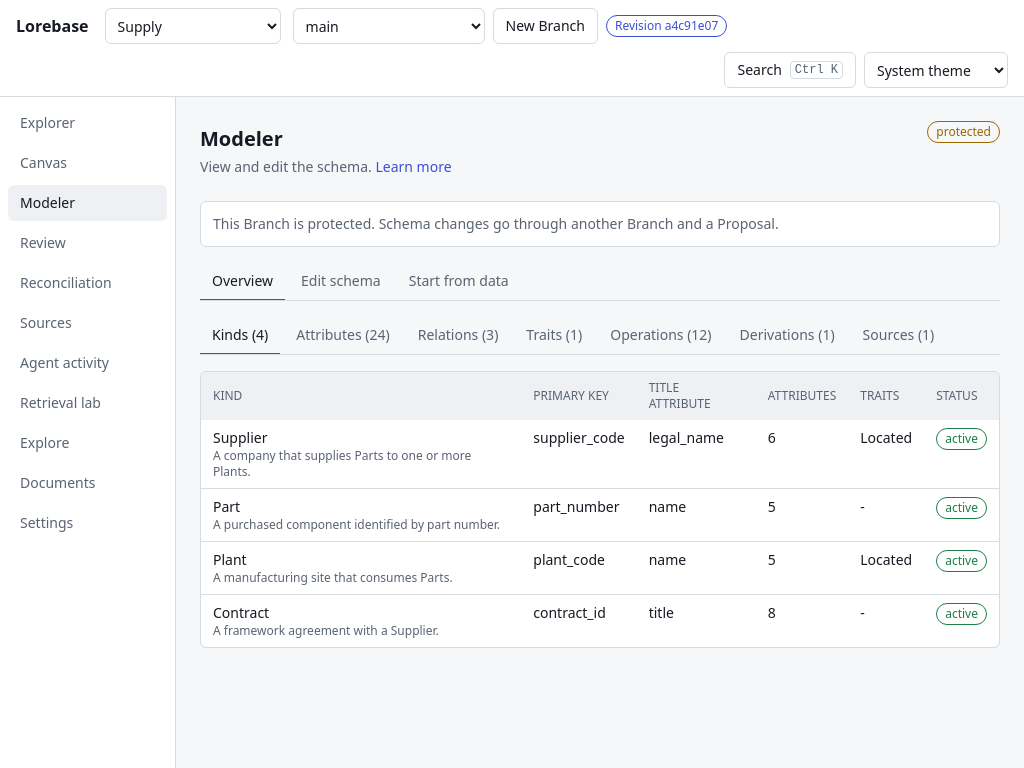
Test: app shell › switches Branch and every view follows
Expected: the cell "Supplier" is shown, top-left (201, 420), bottom-right (521, 488)
Expected: the text "RiskFlag" is not shown
Select "model/risk" in the dropdown named "Branch" in the row of "Revision a4c91e07": x=388, y=26 top-left (292, 8), bottom-right (484, 44)
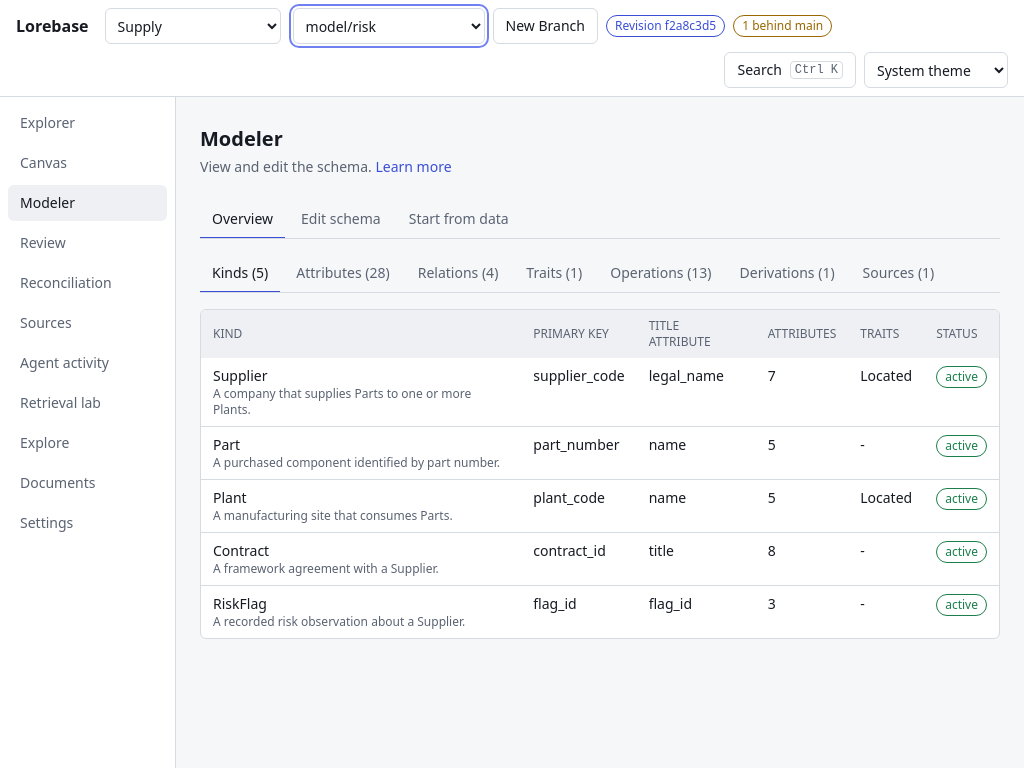
Expected: the text "RiskFlag" is shown, top-left (213, 594), bottom-right (267, 613)
